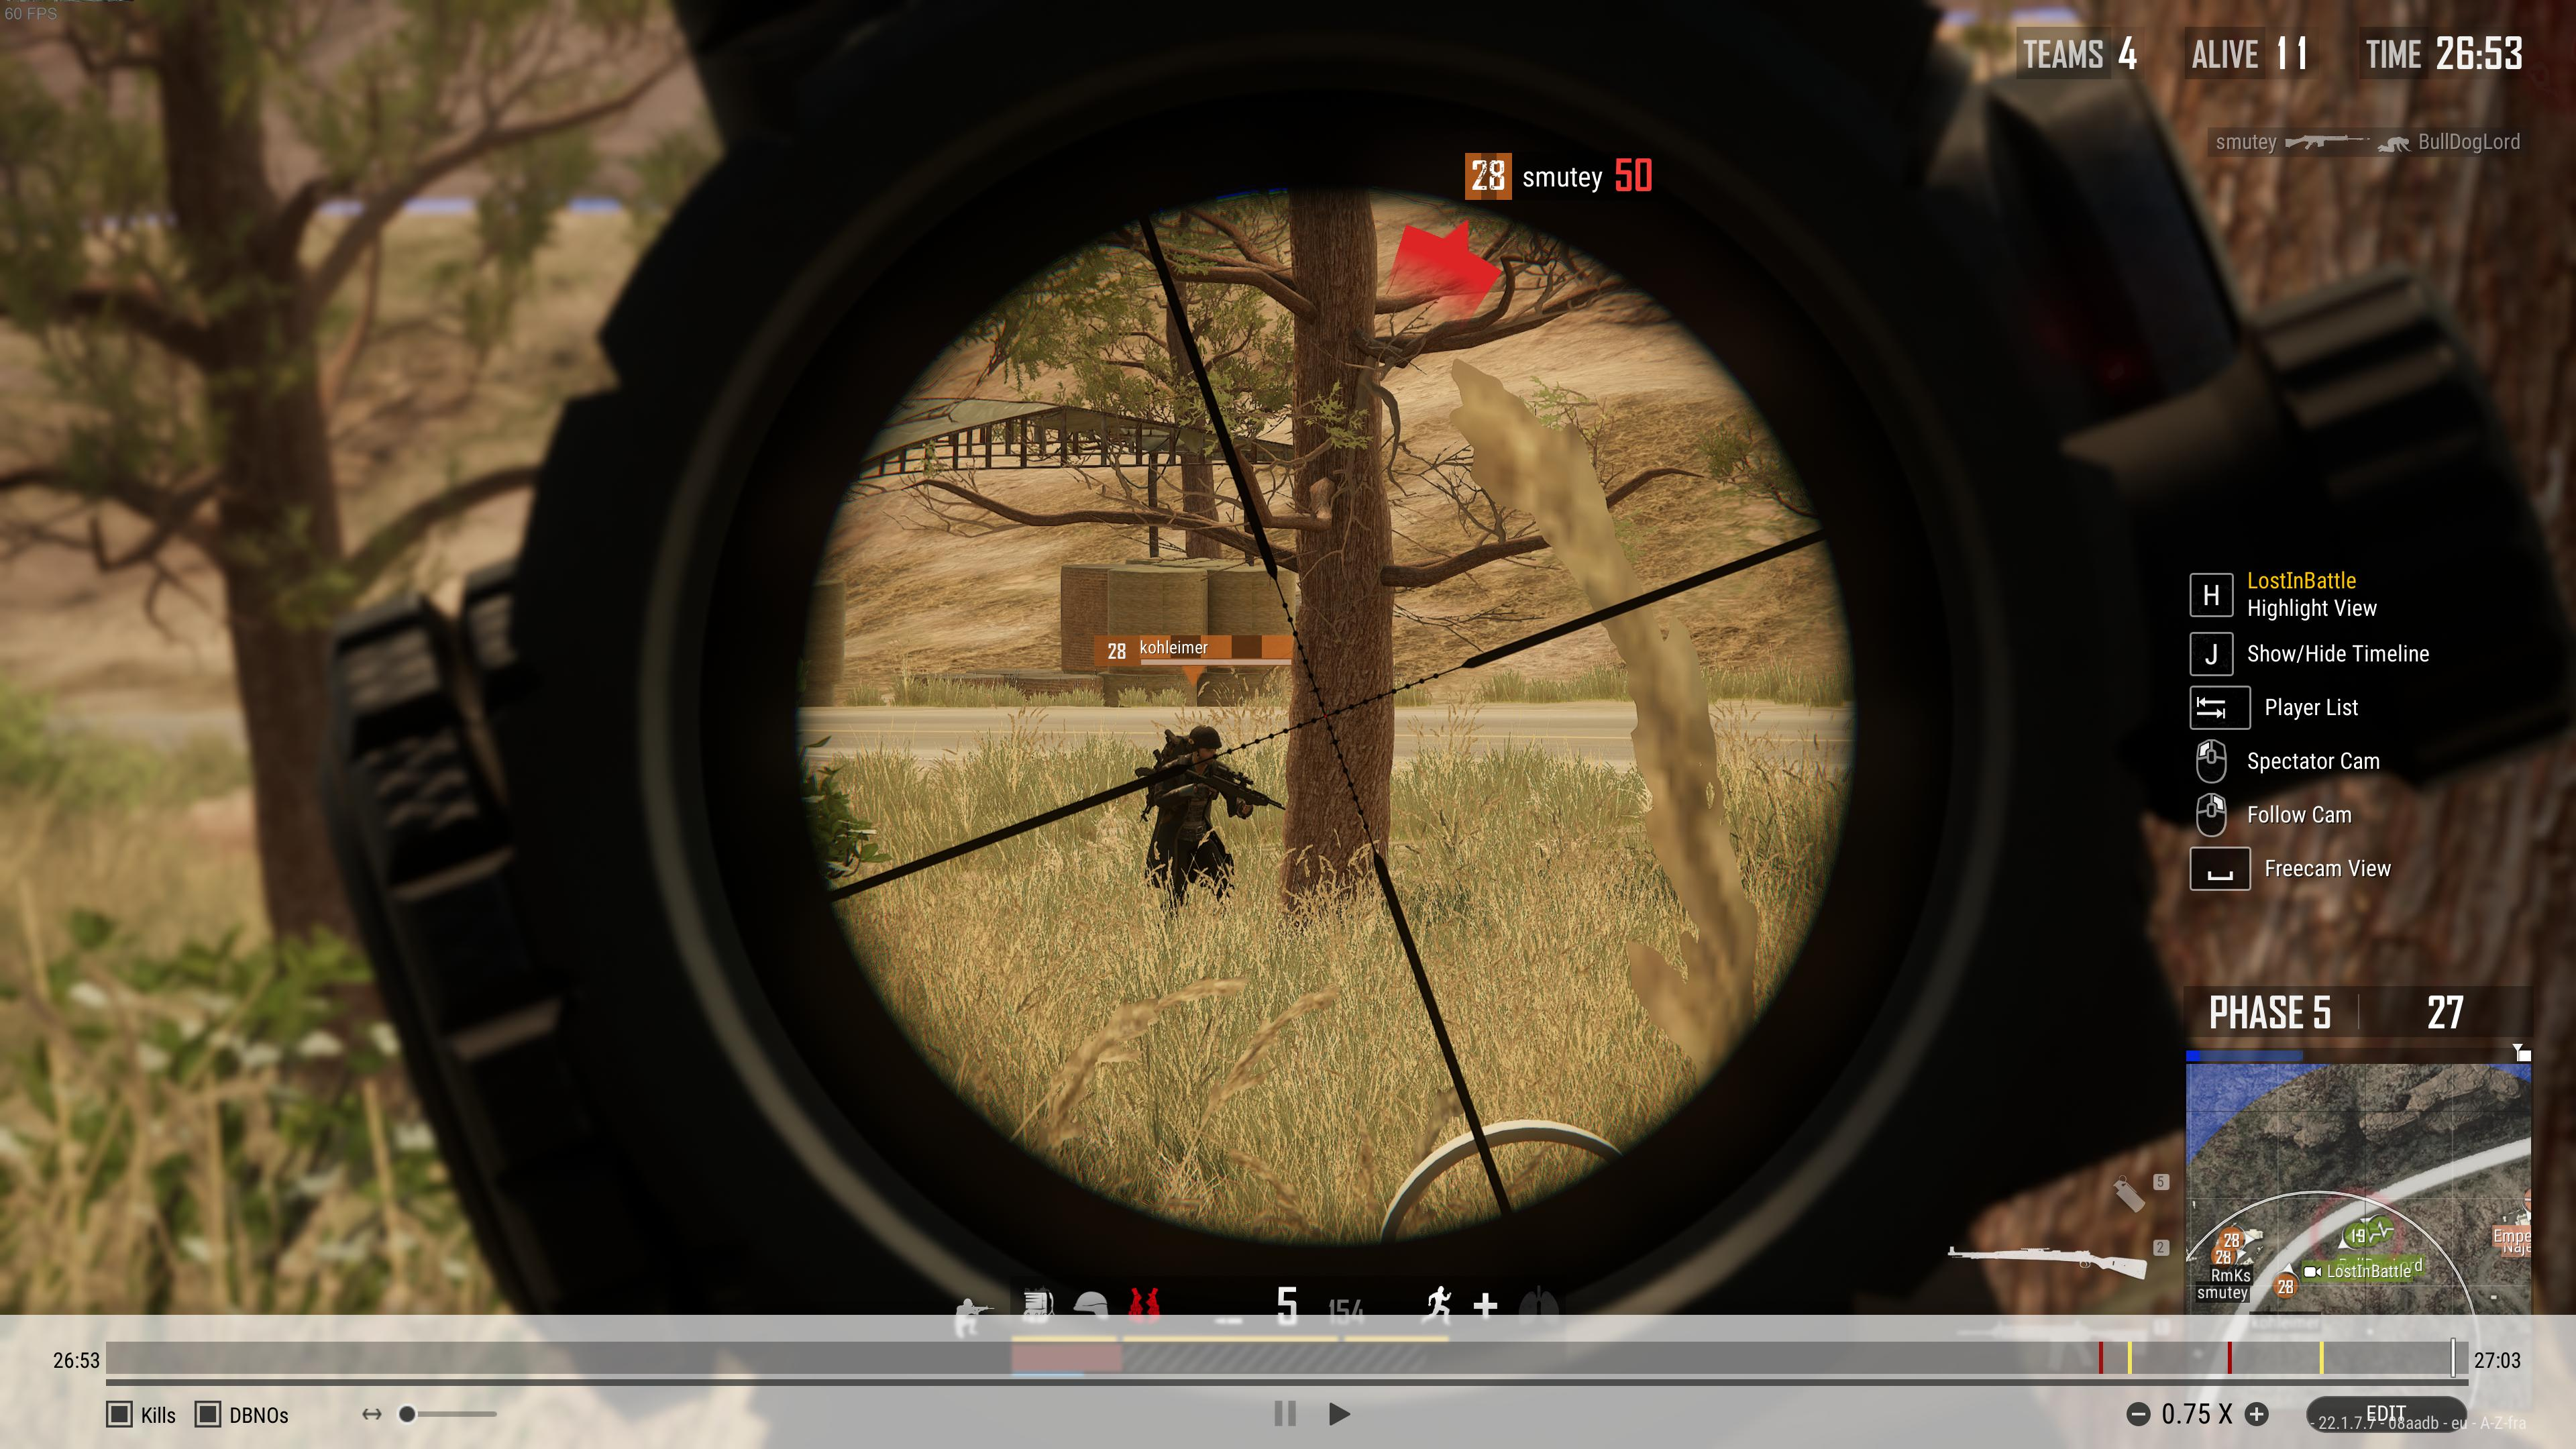enemy: (1143, 724, 1253, 911)
enemy_head: (1187, 724, 1221, 764)
